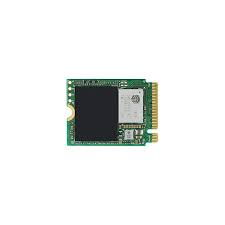ssd2230: (64, 78, 161, 148)
